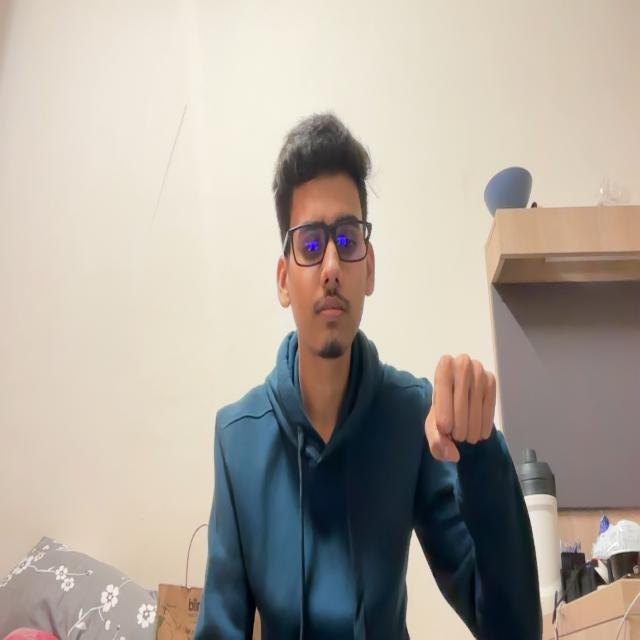Yes: (418, 324, 509, 480)
